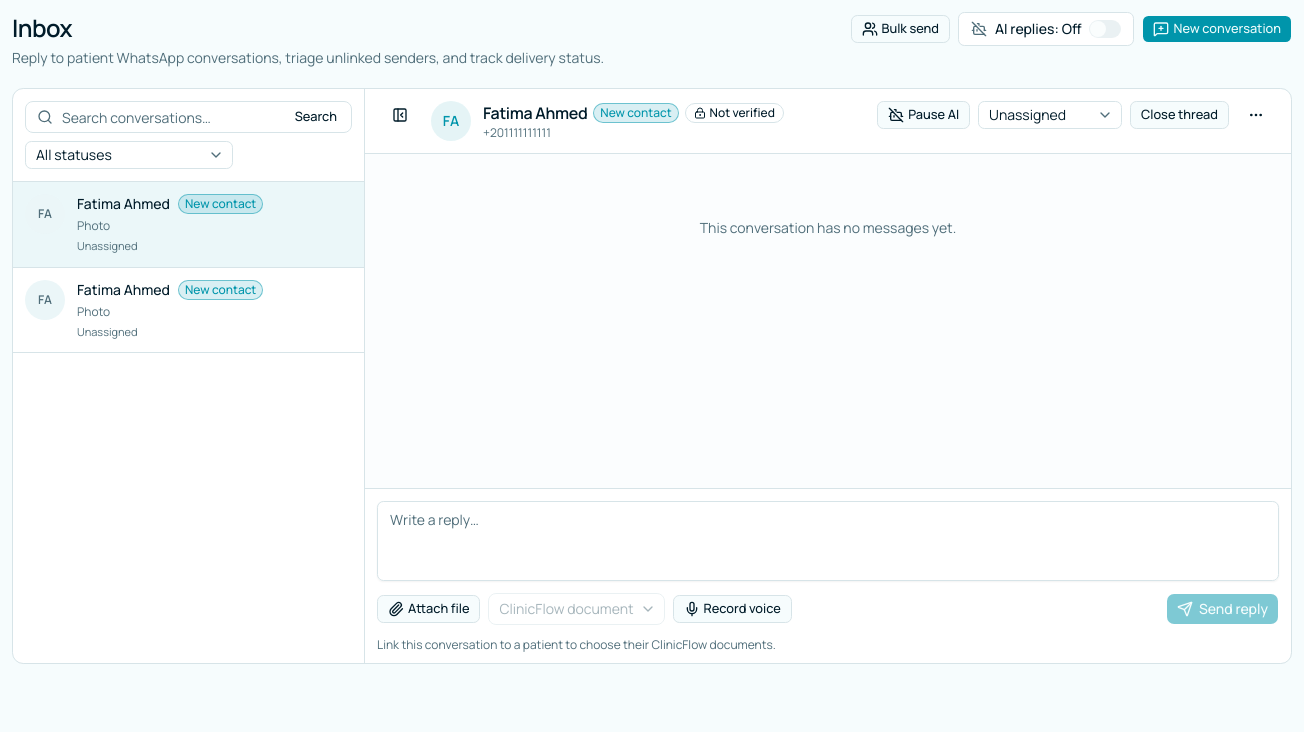
Test case: P11Q — bulk selection is opt-in › counts the selection and refuses to compose with nobody selected
Click the button with test id "bulk-start-selecting" at (900,29), box [850,15,950,43]
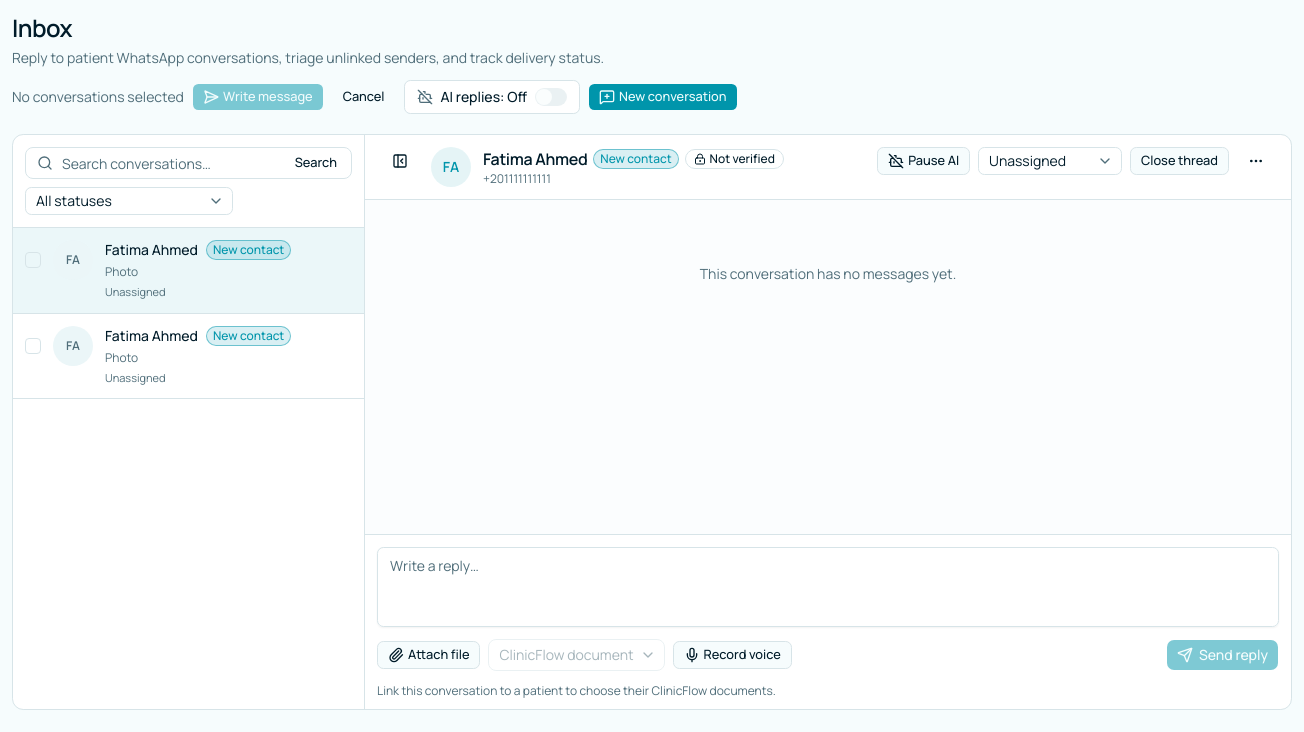
Expected: the button with test id "bulk-compose" is disabled, [192,83,324,111]
Click the checkbox with test id "bulk-selectable-row" at (73,260), box [13,228,364,314]
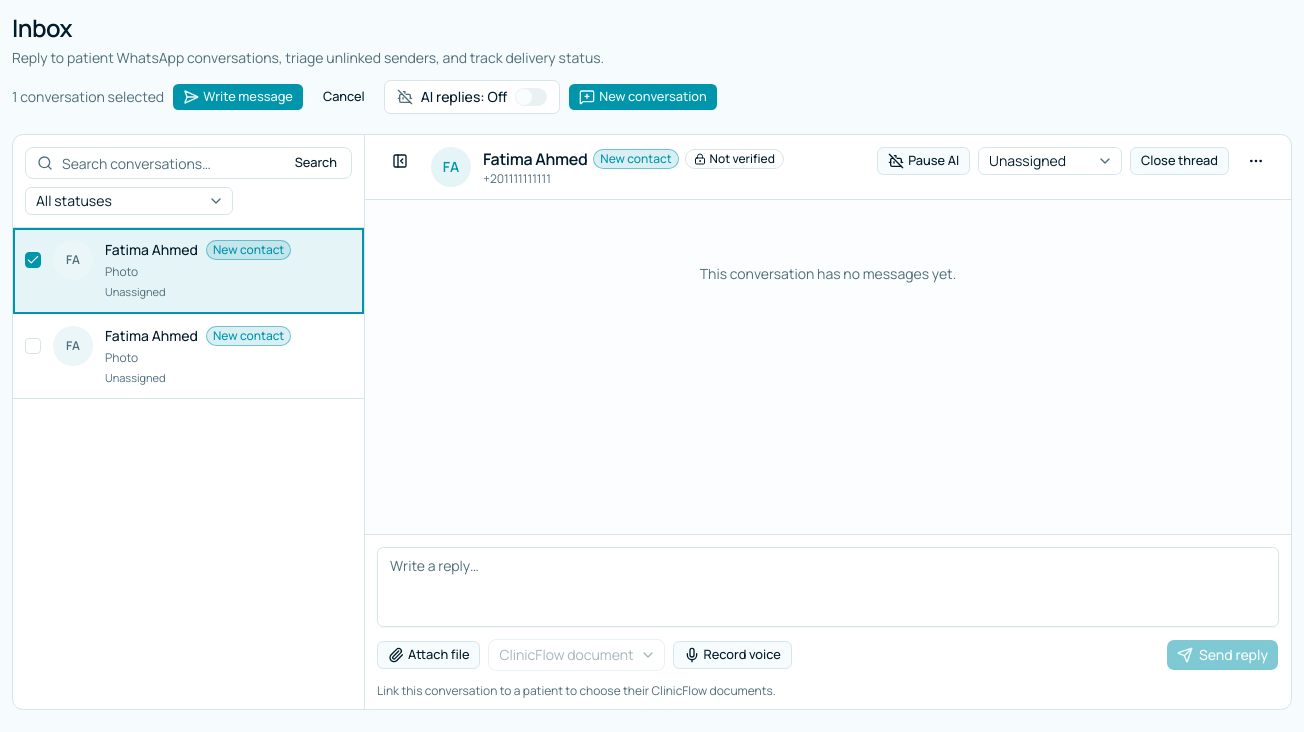
Expected: the text with test id "bulk-selected-count" shows "1", [12,87,164,106]
Expected: the button with test id "bulk-compose" is enabled, [172,83,304,111]
